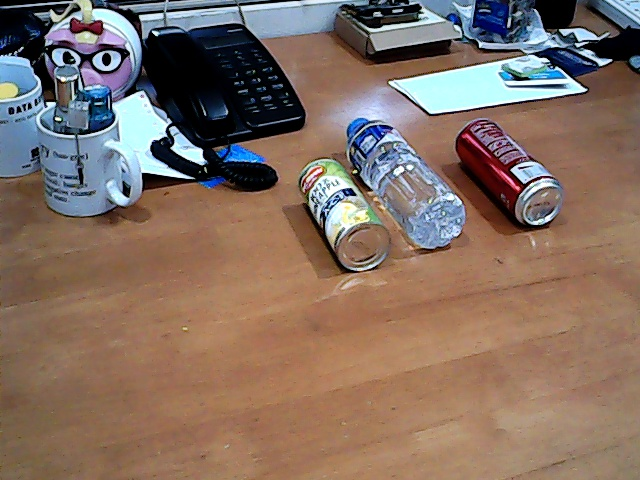Cola: (455, 109, 579, 222)
Pine Juice: (294, 154, 384, 269)
Summit Water: (346, 94, 429, 200)
